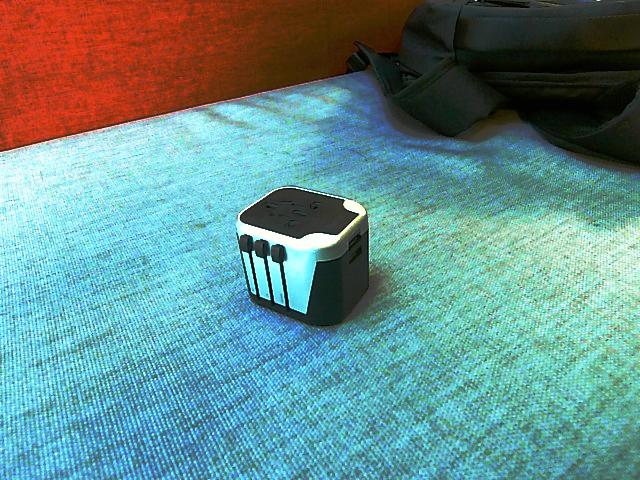adapter: (234, 186, 370, 326)
